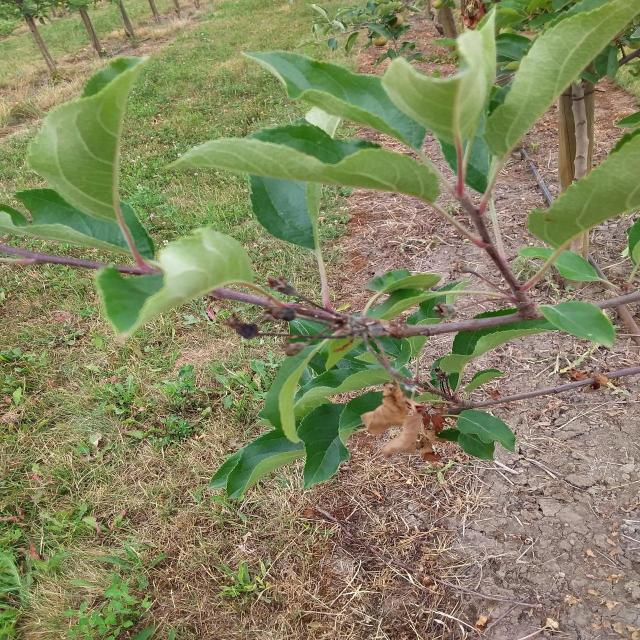-FireBlight-: (376, 396, 446, 474)
